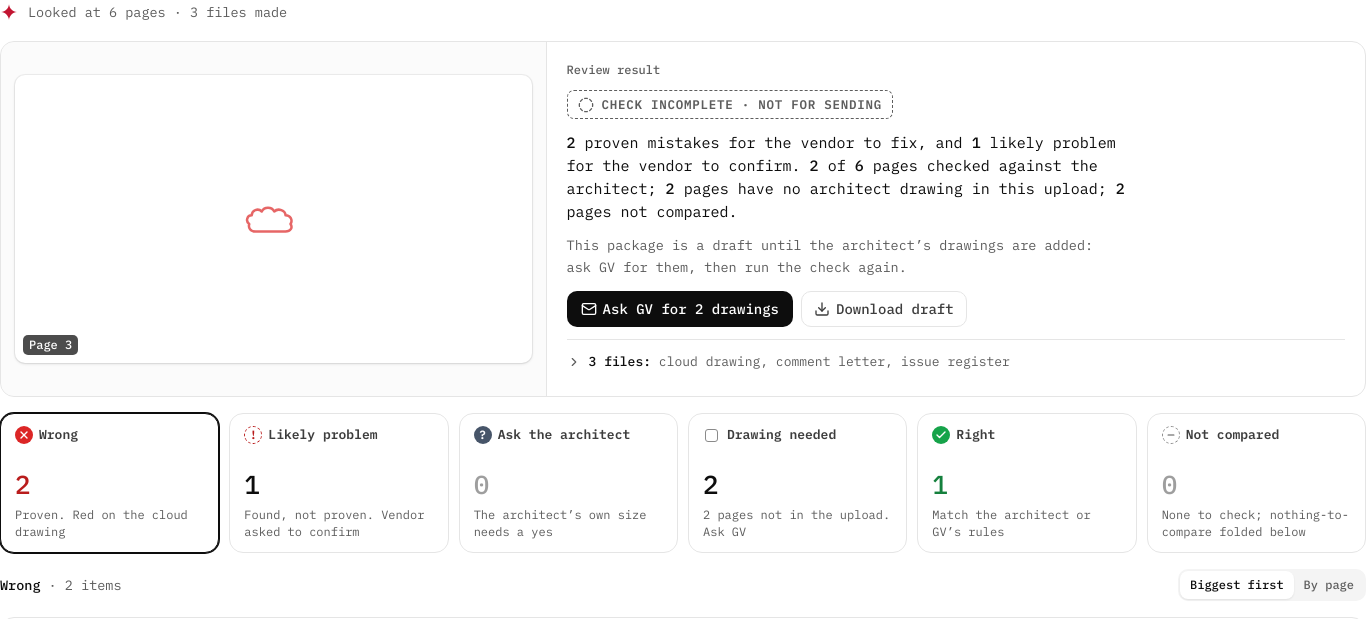
Test: results v2 on the screen › asks GV for the missing drawings with a draft to copy, and never offers "Run the check again" for them
Check: the text "This package is a draft until the architect’s drawings are added: ask GV for them, then run the check again." is shown, box [567, 236, 1093, 276]
What coordinates should you click on to do the following:
click the button "Ask GV for 2 drawings"
I would click on:
 (680, 309)
Its box is [567, 291, 793, 327].
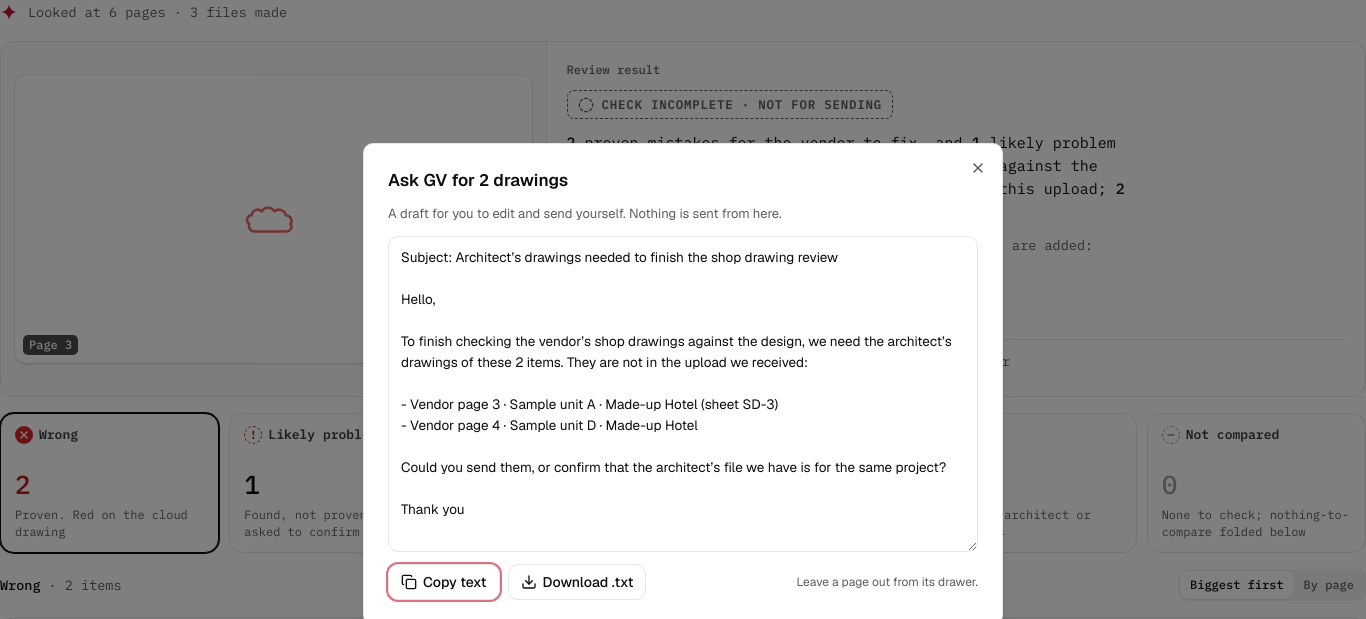
Check: the text "A draft for you to edit and send yourself. Nothing is sent from here." is shown, box [388, 205, 782, 222]
